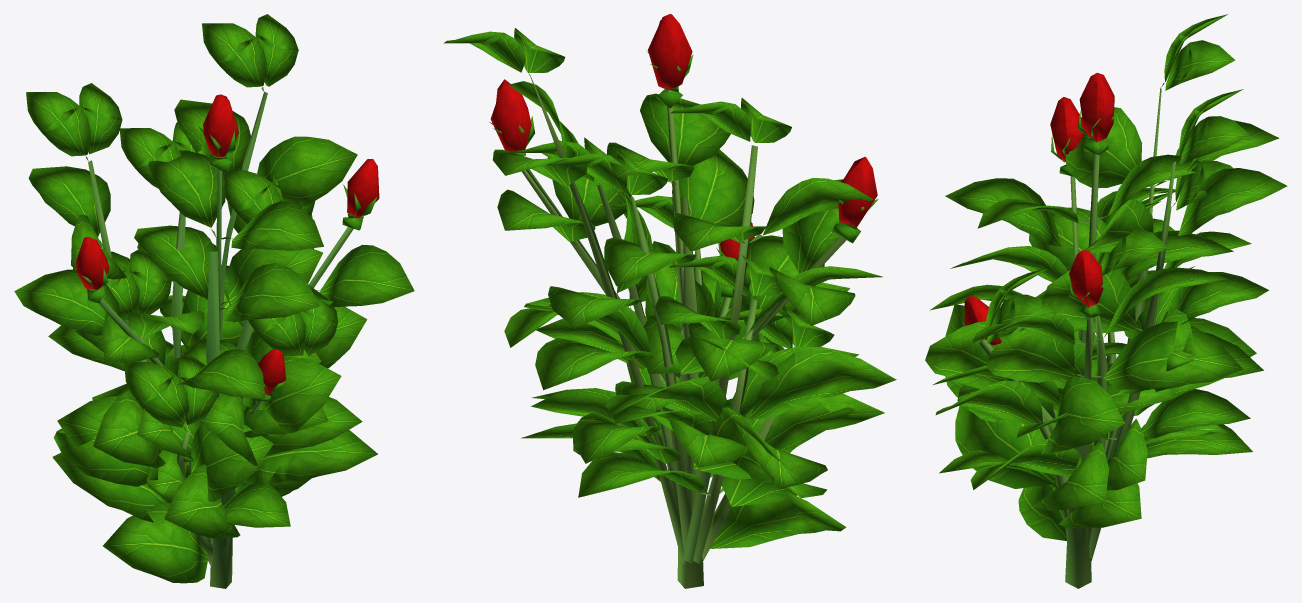
The model's file is NP_Hibiscus_BudForming_LOD1.fbx.
The picture shows the model from 3 angles, left to right: view 1: azimuth 30°, elevation 25°; view 2: azimuth 150°, elevation 25°; view 3: azimuth 270°, elevation 25°; orthographic projection. The views are drawn at different scales.
Parts seen in each view (by area): view 1: NP_Hibiscus_BudForming; view 2: NP_Hibiscus_BudForming; view 3: NP_Hibiscus_BudForming.
Boxes of the visible parts, left/top/right/bottom form: NP_Hibiscus_BudForming: left=14, top=14, right=414, bottom=588; NP_Hibiscus_BudForming: left=443, top=14, right=896, bottom=588; NP_Hibiscus_BudForming: left=925, top=14, right=1287, bottom=588.
Bounding box in the file's own units: 53.25 × 77.23 × 48.18.
